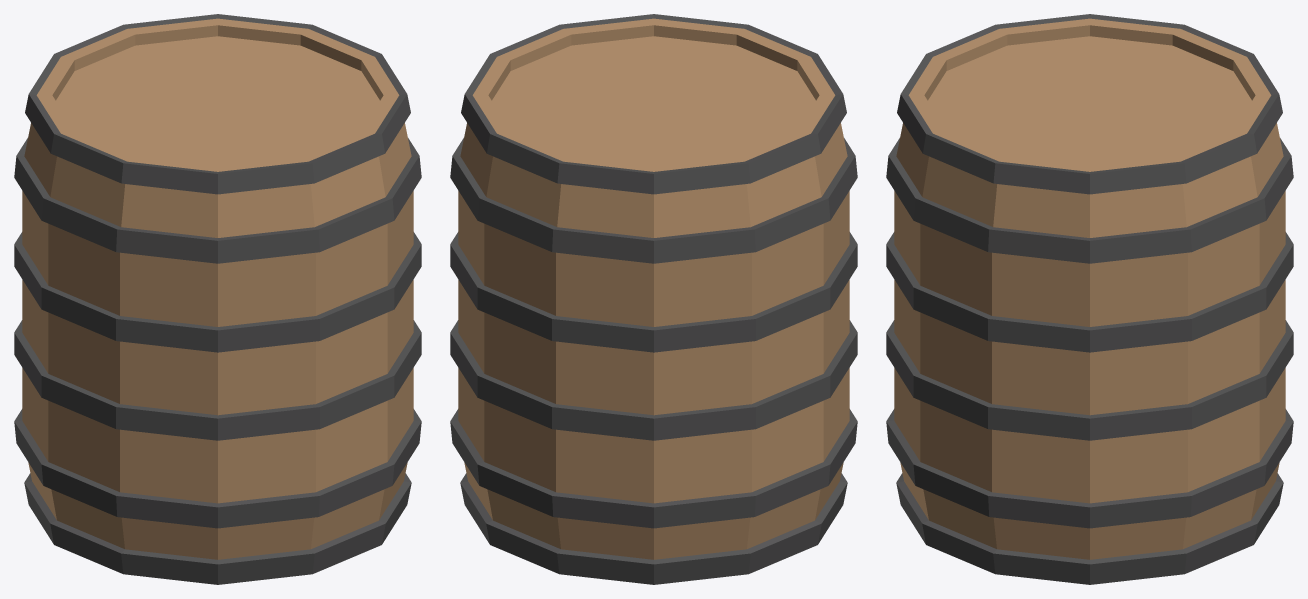
Rendered from Barrel B-col.glb.
The picture shows the model from 3 angles, left to right: view 1: azimuth 30°, elevation 25°; view 2: azimuth 150°, elevation 25°; view 3: azimuth 270°, elevation 25°; orthographic projection.
Parts seen in each view (by area): view 1: Barrel B-col; view 2: Barrel B-col; view 3: Barrel B-col.
Part boxes in pixels (bbox=[...]): Barrel B-col: bbox=[14, 14, 421, 584]; Barrel B-col: bbox=[450, 14, 857, 584]; Barrel B-col: bbox=[886, 14, 1293, 584].
Size of the model in its own units: 0.8988 by 1 by 0.8988.
